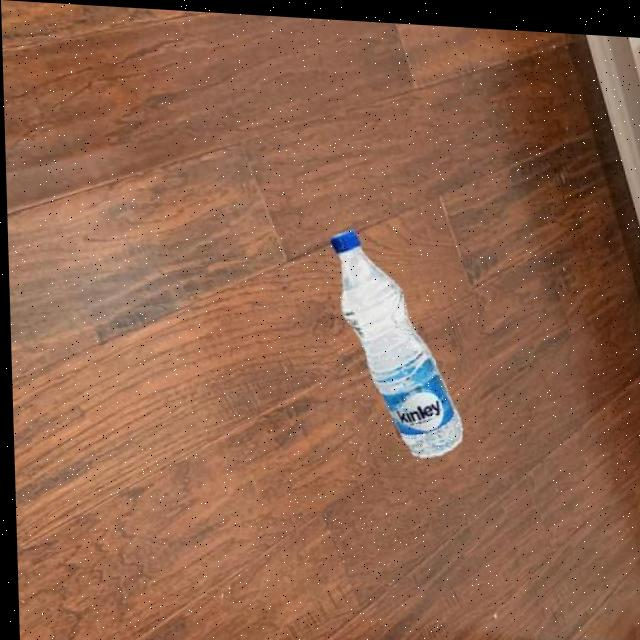bottle: (327, 223, 463, 455)
